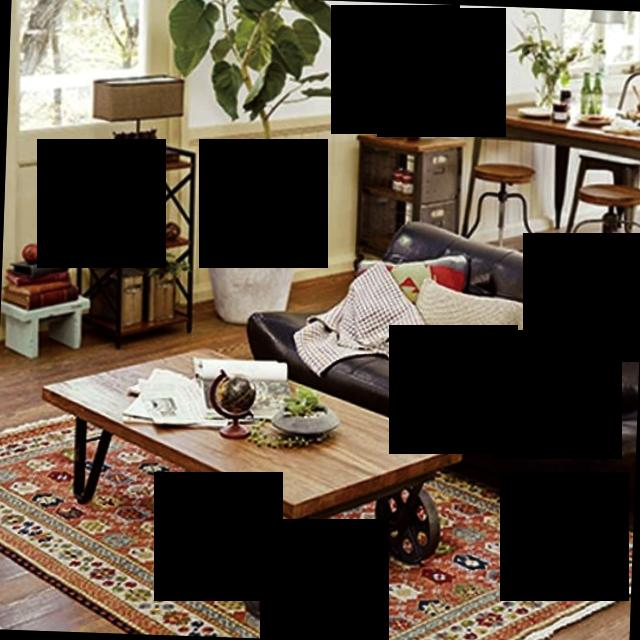vintage chair: (464, 156, 544, 254), (577, 175, 640, 271)
vintage desk: (35, 337, 464, 616)
vintage sofa: (228, 210, 634, 502)
